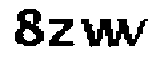8: (11, 2, 44, 52)
v: (123, 13, 148, 49)
w: (77, 15, 122, 48)
z: (47, 17, 77, 49)
